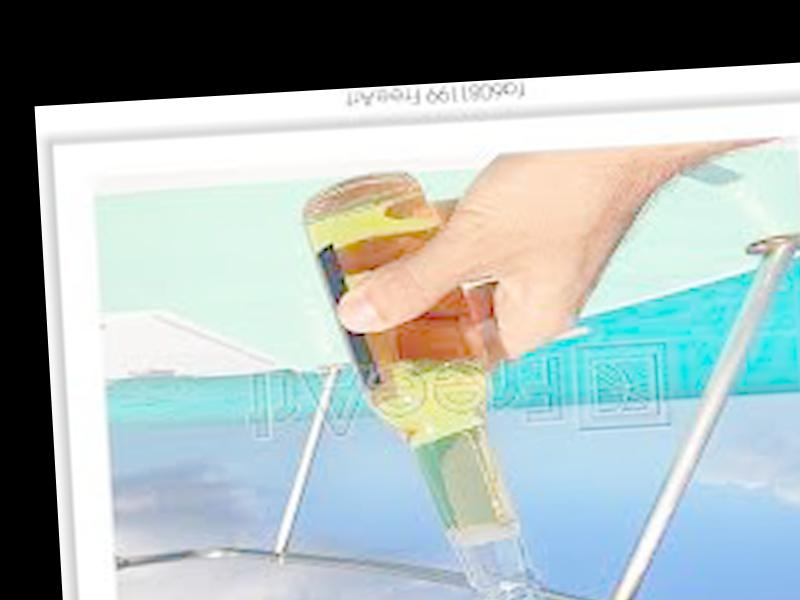Beer: (296, 170, 557, 600)
